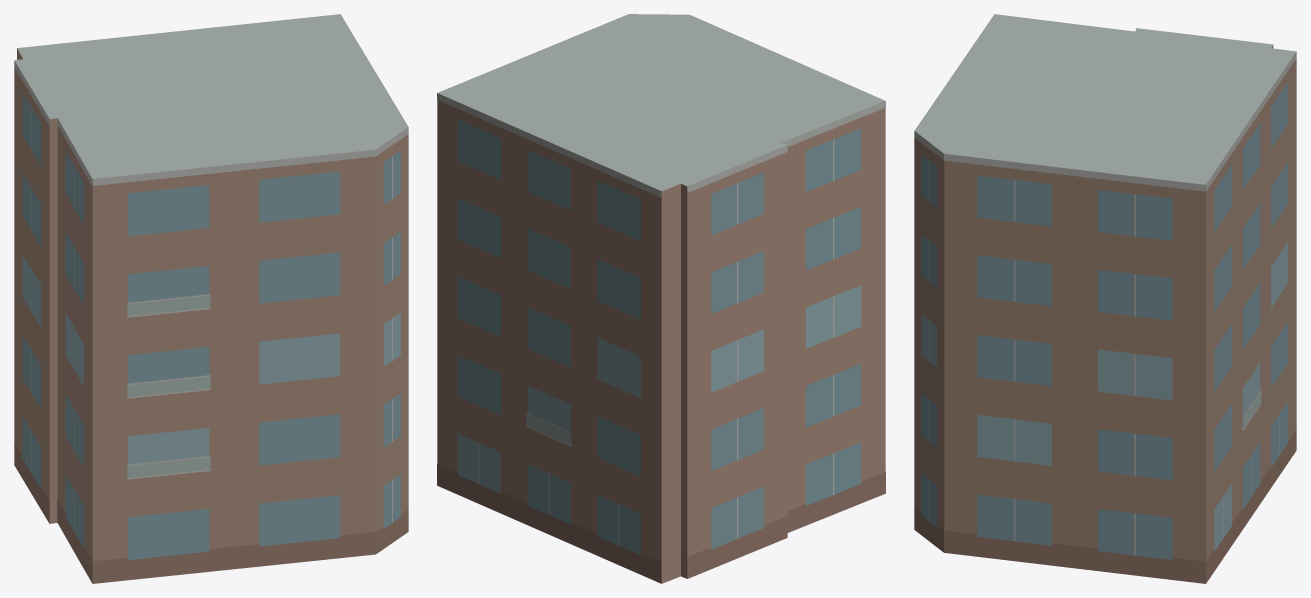
Rendered from survey-upis-32985566.glb.
3 views of the same model, side by side, from view 1: azimuth 30°, elevation 25°; view 2: azimuth 150°, elevation 25°; view 3: azimuth 270°, elevation 25° (orthographic). The views are drawn at different scales.
Parts seen in each view (by area): view 1: survey-upis-32985566.tmp; view 2: survey-upis-32985566.tmp; view 3: survey-upis-32985566.tmp.
Part boxes in pixels (left/top/right/bottom): survey-upis-32985566.tmp: left=14, top=14, right=408, bottom=583; survey-upis-32985566.tmp: left=437, top=14, right=885, bottom=583; survey-upis-32985566.tmp: left=914, top=14, right=1296, bottom=583.
Size of the model in its own units: 13.24 by 14.4 by 12.51.
